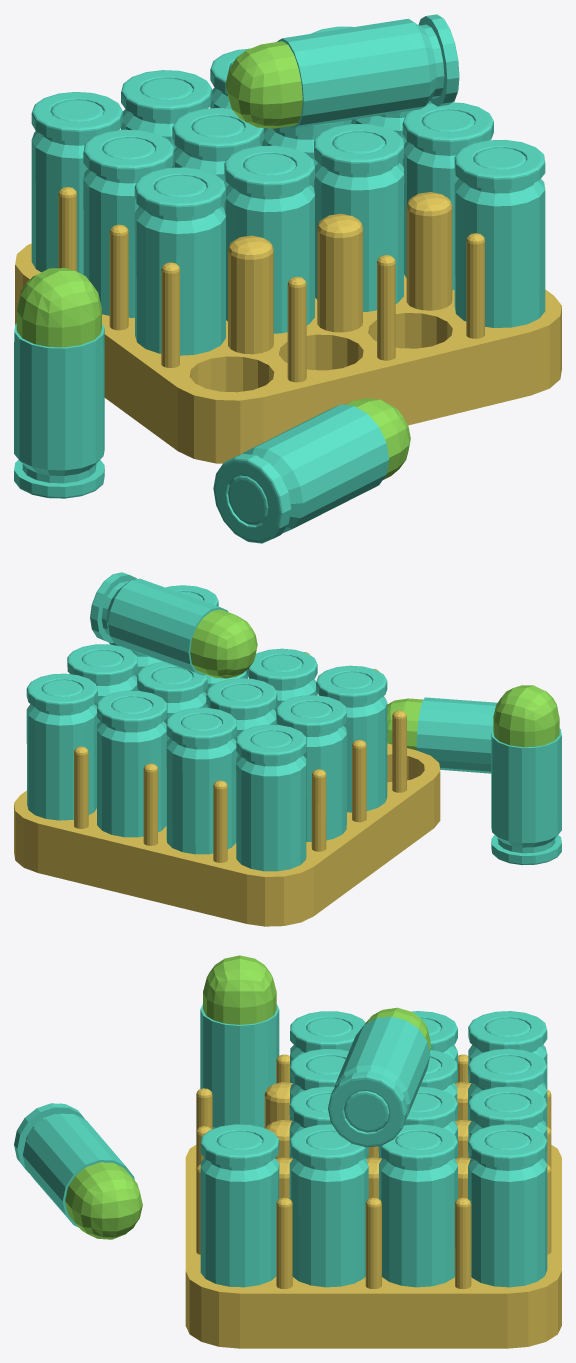
The picture shows the model from 3 angles, top to bottom: view 1: azimuth 30°, elevation 25°; view 2: azimuth 150°, elevation 25°; view 3: azimuth 270°, elevation 25°; orthographic projection. The views are drawn at different scales.
Visible parts, largest first — view 1: box, shell_casing002, shell_casing006, shell_casing014, shell_casing004, shell_casing, shell_casing012, shell_casing010, shell_casing030, shell_casing022, shell_casing008, bullet (+7 smaller); view 2: box, shell_casing030, shell_casing028, shell_casing024, shell_casing026, shell_casing, shell_casing004, shell_casing014, shell_casing022, shell_casing002, bullet002, bullet (+6 smaller); view 3: box, shell_casing024, shell_casing006, shell_casing016, shell_casing008, shell_casing004, shell_casing, shell_casing002, bullet001, bullet, shell_casing028, shell_casing026 (+8 smaller).
Part boxes in pixels (box(x1,y1,x2,y2)): box: box(15, 187, 561, 463); shell_casing002: box(213, 404, 389, 543); shell_casing006: box(454, 139, 545, 327); shell_casing014: box(134, 167, 225, 355); shell_casing004: box(277, 14, 459, 128); shell_casing: box(14, 323, 104, 498); shell_casing012: box(224, 145, 314, 333); shell_casing010: box(314, 124, 404, 311); shell_casing030: box(31, 92, 122, 274); shell_casing022: box(83, 129, 174, 317); shell_casing008: box(402, 102, 493, 290); bullet: box(16, 268, 101, 347); box: box(14, 652, 440, 926); shell_casing030: box(236, 724, 306, 871); shell_casing028: box(166, 707, 236, 854); shell_casing024: box(26, 673, 97, 820); shell_casing026: box(97, 690, 167, 837); shell_casing: box(491, 728, 561, 865); shell_casing004: box(90, 572, 228, 675); shell_casing014: box(316, 665, 387, 812); shell_casing022: box(276, 695, 346, 841); shell_casing002: box(416, 697, 497, 773); bullet002: box(190, 609, 257, 678); bullet: box(493, 685, 559, 747); box: box(185, 1054, 561, 1348); shell_casing024: box(468, 1124, 547, 1287); shell_casing006: box(200, 1124, 279, 1287); shell_casing016: box(379, 1124, 457, 1287); shell_casing008: box(289, 1124, 368, 1287); shell_casing004: box(328, 1016, 430, 1147); shell_casing: box(200, 1004, 279, 1128); shell_casing002: box(14, 1103, 134, 1227); bullet001: box(65, 1162, 142, 1239); bullet: box(203, 955, 276, 1024); shell_casing028: box(468, 1048, 547, 1126); shell_casing026: box(468, 1086, 547, 1163).
Bounding box in the file's own units: 65.81 × 35.15 × 67.51.
